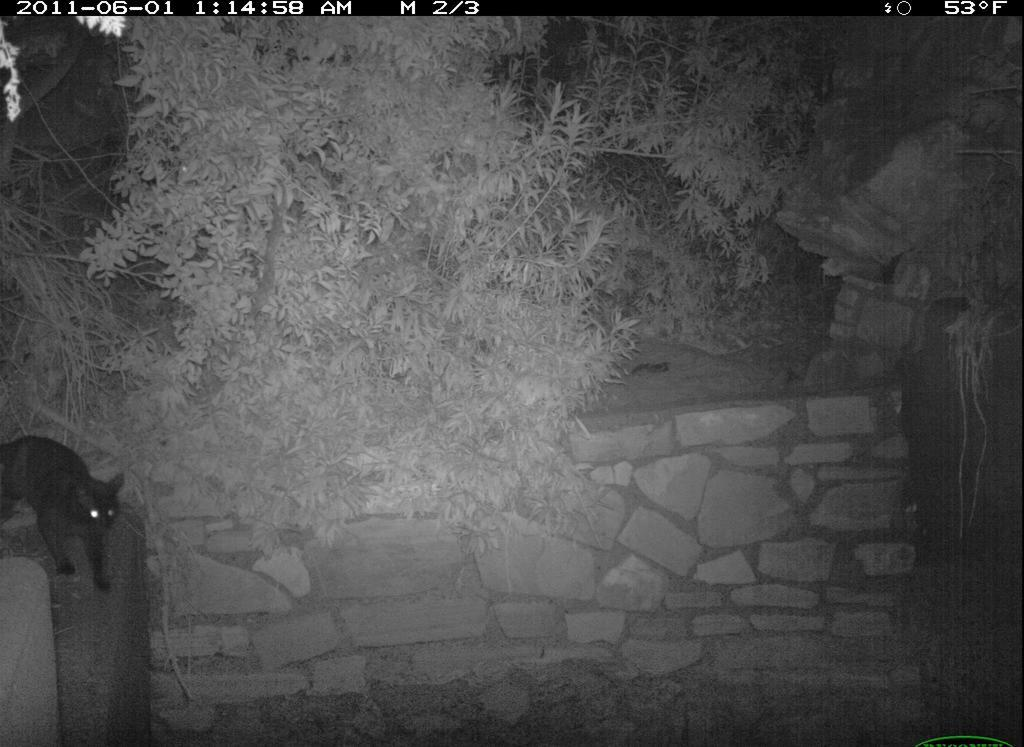cat: (3, 424, 167, 597)
